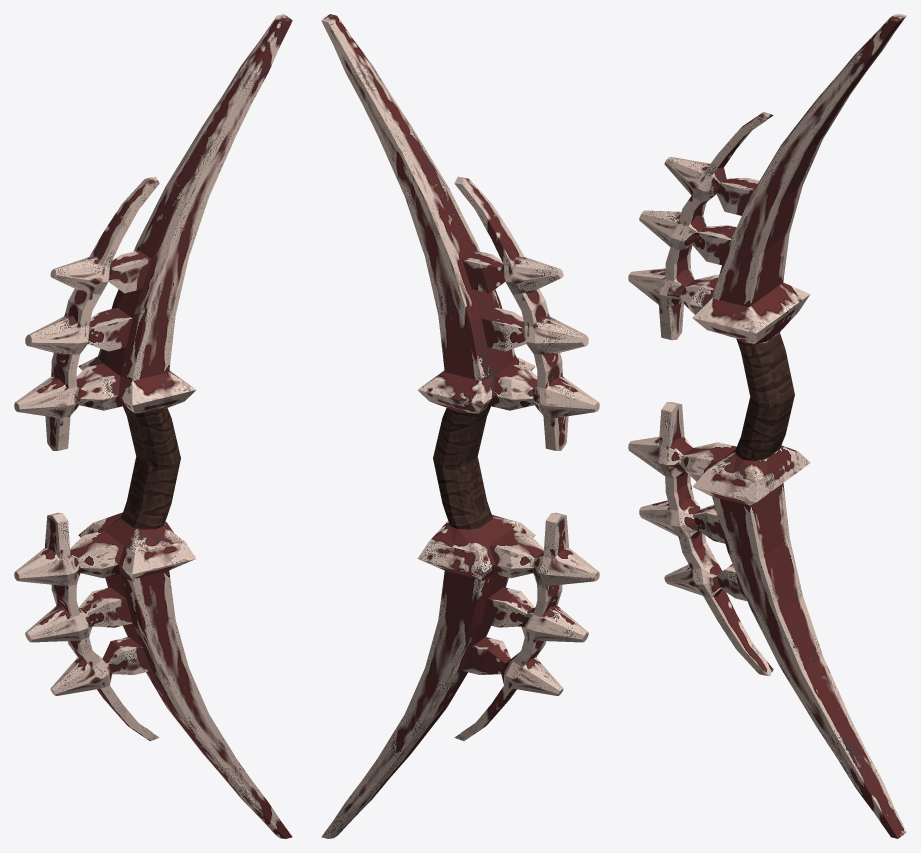
Rendered from Thorn Bow.fbx.
The picture shows the model from 3 angles, left to right: view 1: azimuth 30°, elevation 25°; view 2: azimuth 150°, elevation 25°; view 3: azimuth 330°, elevation 25°; orthographic projection.
Visible parts, largest first — view 1: Thorn_Bow; view 2: Thorn_Bow; view 3: Thorn_Bow.
Part boxes in pixels (x1,y1,x2,y2): Thorn_Bow: [14, 14, 292, 838]; Thorn_Bow: [321, 14, 599, 838]; Thorn_Bow: [628, 14, 906, 838].
Bounding box in the file's own units: 140 × 403 × 48.18.
